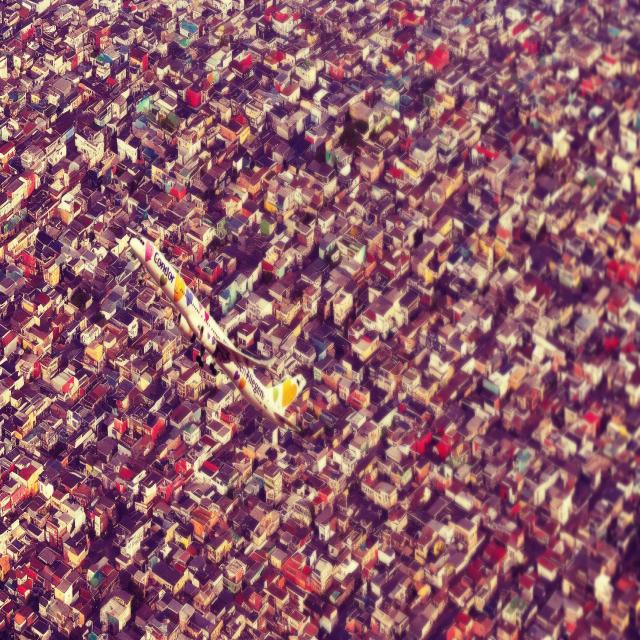airplane: (128, 234, 306, 433)
